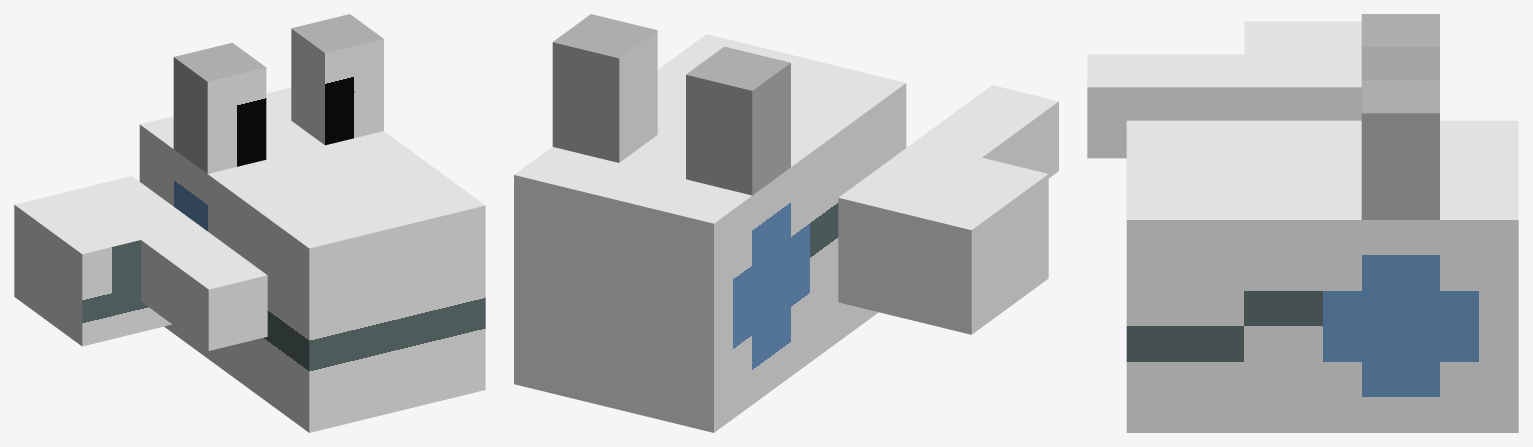
Rendered from fingore.gltf.
3 views of the same model, side by side, from view 1: azimuth 30°, elevation 25°; view 2: azimuth 150°, elevation 25°; view 3: azimuth 270°, elevation 25° (orthographic). The views are drawn at different scales.
Parts seen in each view (by area): view 1: cube (×5); view 2: cube (×5); view 3: cube (×5).
Boxes of the visible parts, box(x1,y1,x2,y2) form: cube (×5): box(14, 14, 485, 432); cube (×5): box(514, 14, 1058, 432); cube (×5): box(1087, 14, 1518, 432).
Bounding box in the file's own units: 12 × 9 × 11.
1 material, 1 textured.
